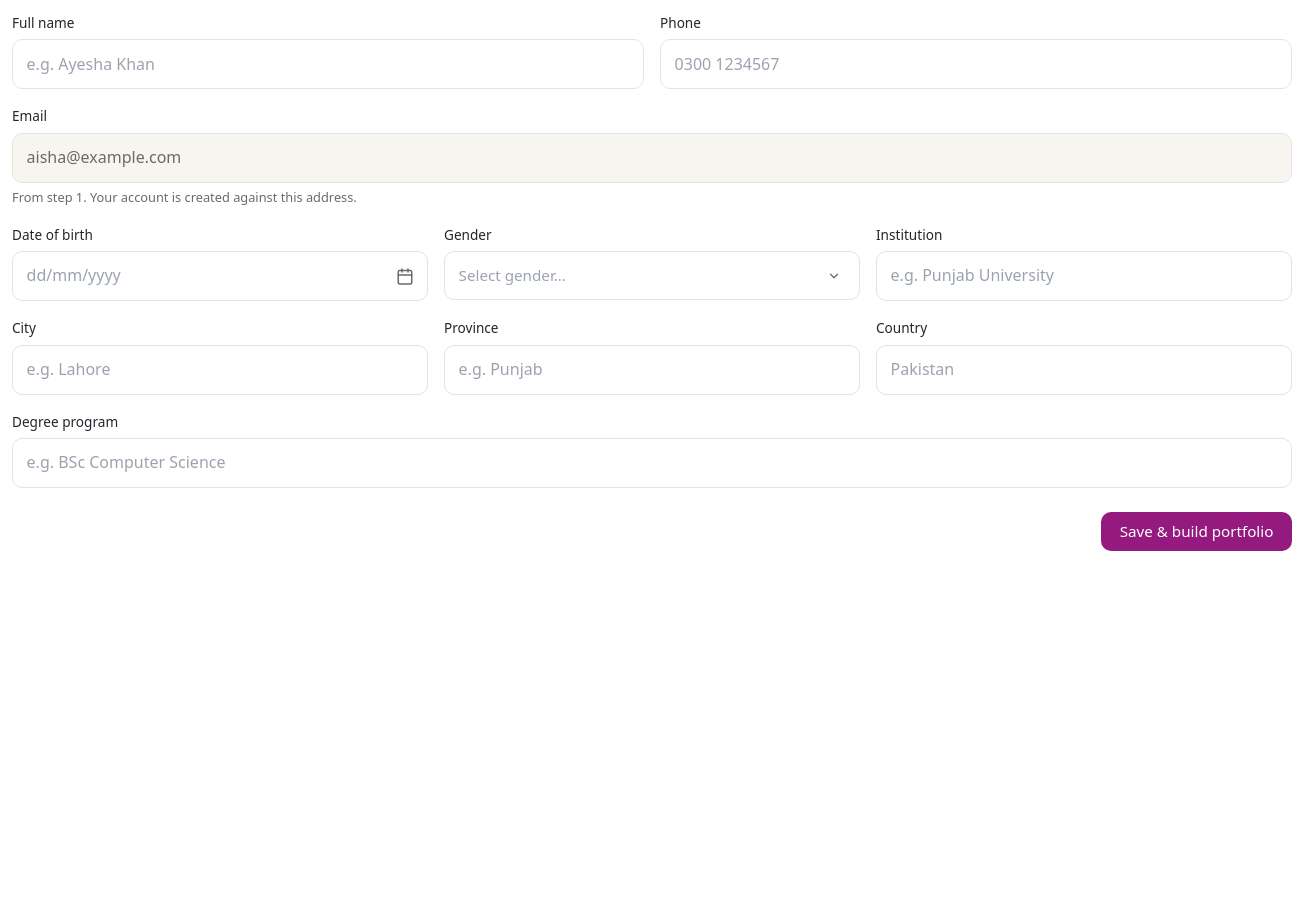
it: §5A Registration — minors (safeguarding on youth programs) › [5A] shows guardian name + contact + consent only when the DOB is a minor
Type "1999-01-01" into the field labelled "Date of birth" at (220, 276), box top-left (12, 251), bottom-right (428, 301)
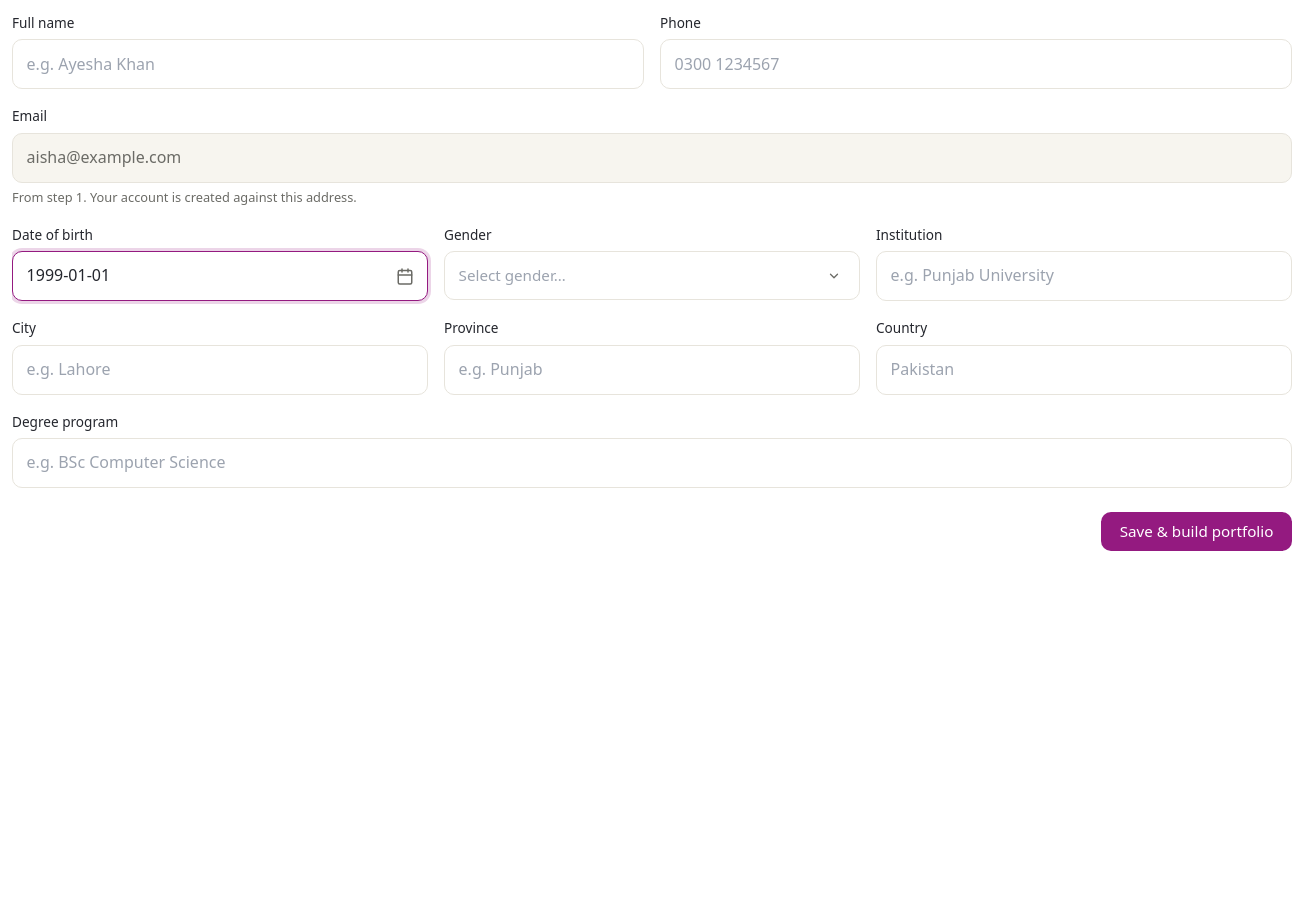
Expected: the field labelled "Guardian name" is not shown
Replace the text in the field labelled "Date of birth" with "2015-01-01" at (220, 276), box top-left (12, 251), bottom-right (428, 301)
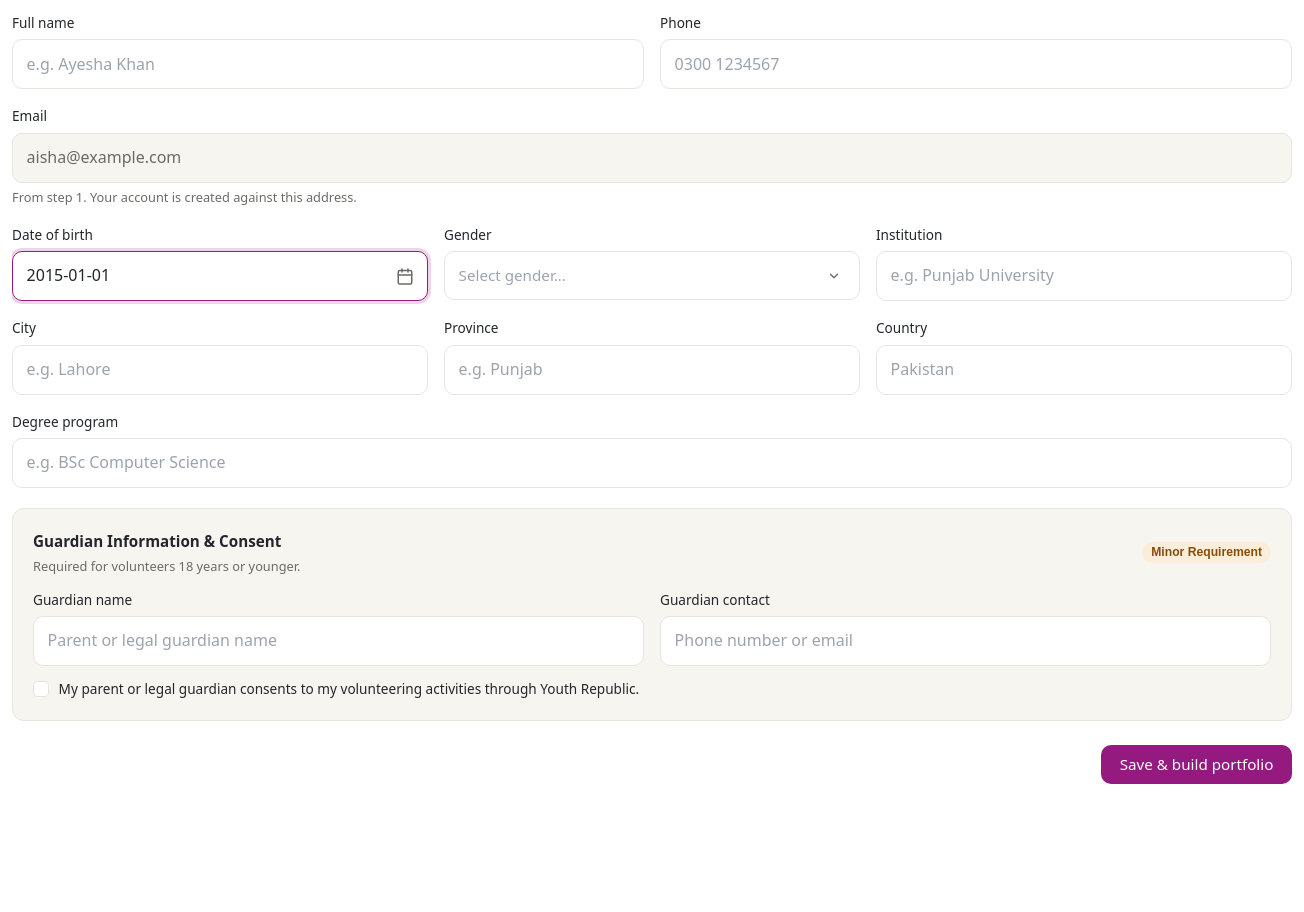
Expected: the field labelled "Guardian name" is shown, top-left (33, 616), bottom-right (644, 666)
Expected: the field labelled "Guardian contact" is shown, top-left (660, 616), bottom-right (1271, 666)
Expected: the checkbox labelled "guardian consent" is shown, top-left (33, 680), bottom-right (49, 696)
